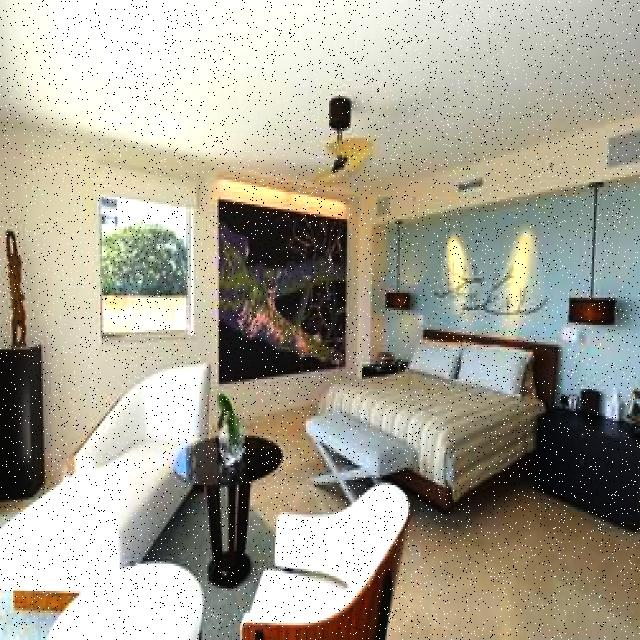bed: (314, 332, 543, 469)
